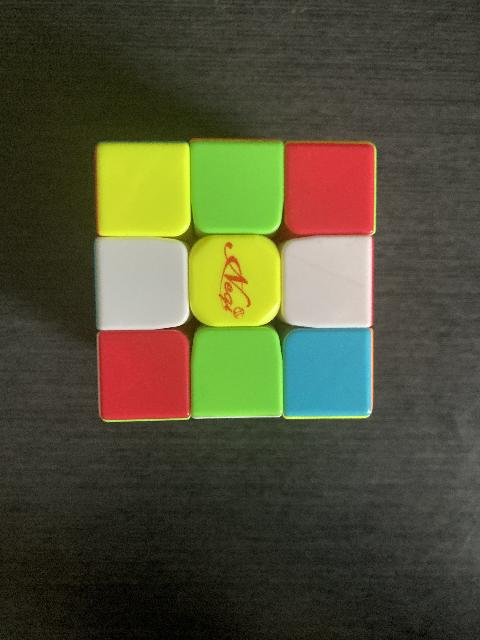Blue: (286, 333, 368, 413)
Green: (193, 142, 281, 232), (194, 329, 280, 417)
Red: (290, 146, 376, 234), (97, 336, 187, 416)
White: (100, 242, 186, 326), (283, 242, 369, 326)
Yellow: (192, 240, 280, 326), (98, 148, 188, 232)
